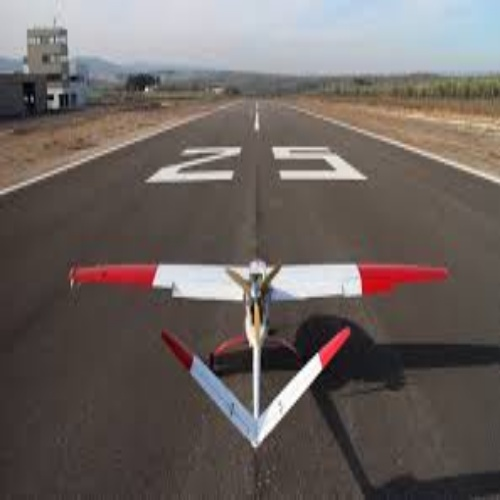uav435: (65, 250, 450, 446)
